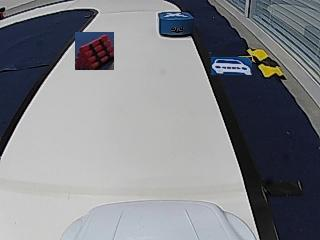prop: (158, 12, 194, 37)
